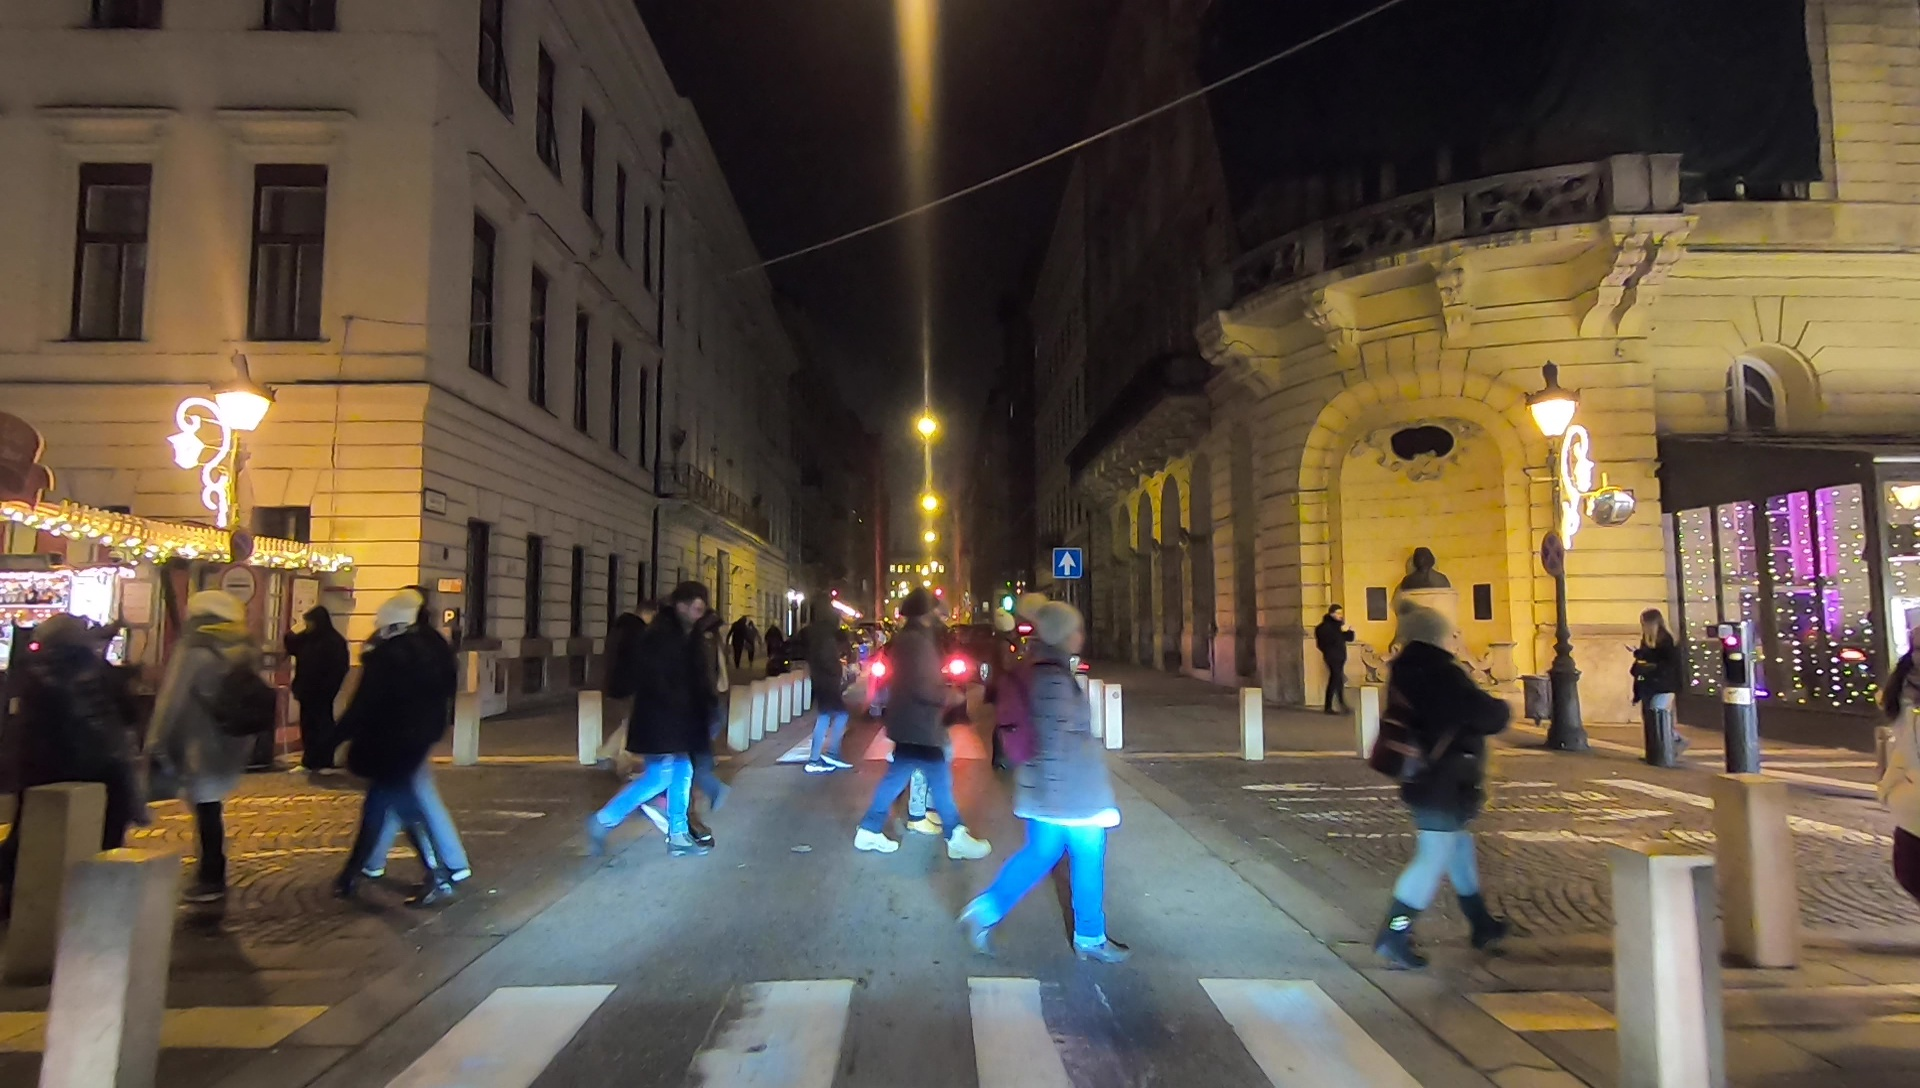person: (984, 599, 1121, 974), (1373, 606, 1508, 974), (14, 611, 138, 917), (584, 582, 712, 874), (347, 602, 464, 908), (865, 593, 982, 869), (158, 587, 252, 908), (599, 595, 693, 839), (275, 600, 358, 787), (1878, 623, 1920, 939), (1619, 608, 1688, 756), (801, 597, 852, 780), (1312, 610, 1358, 713), (719, 611, 764, 680), (762, 617, 784, 682)
